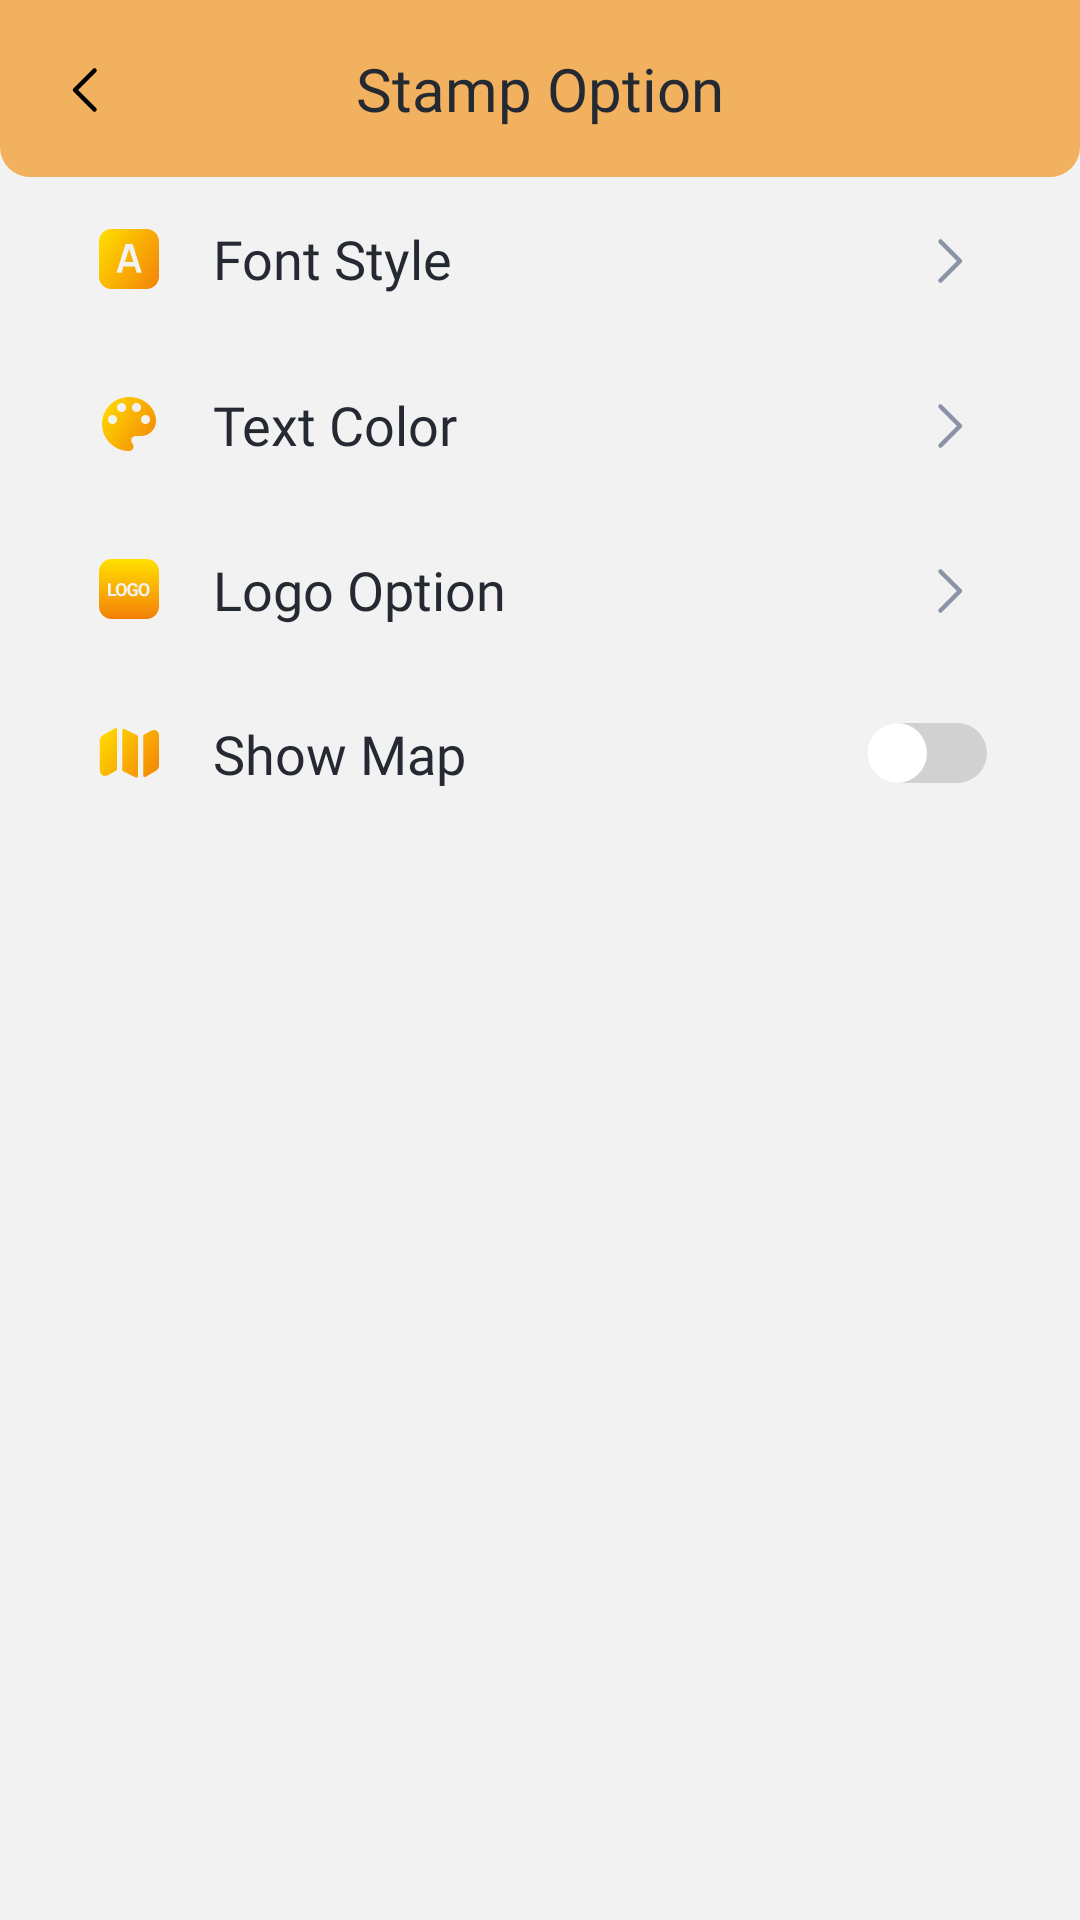

Screen size 1080x1920. Icon name, then its box in pixels as region(x1, y1, x2, y2):
arrow back: region(72, 68, 97, 112)
